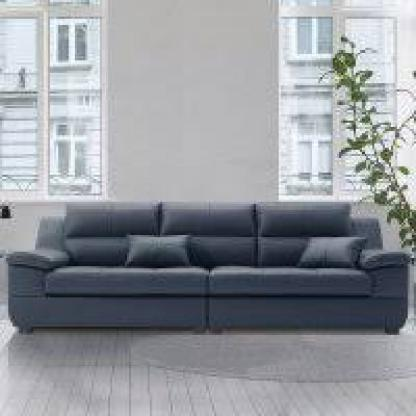sofa: (10, 199, 412, 332)
